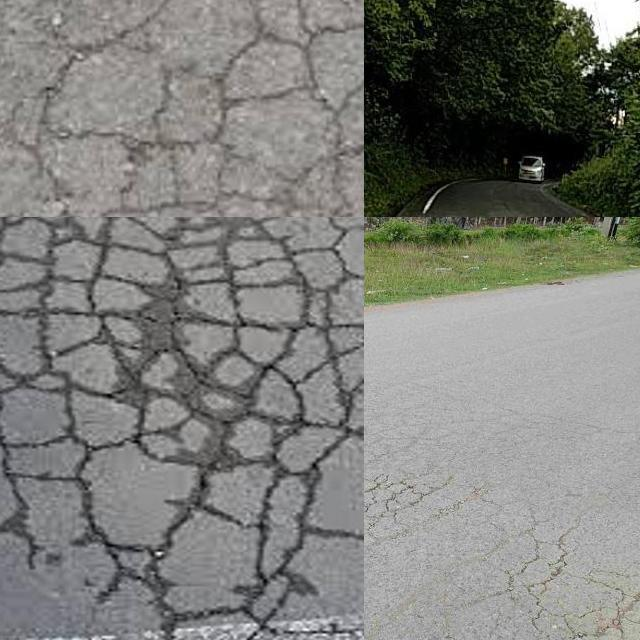Retak Buaya: (0, 217, 359, 640), (0, 0, 364, 217), (364, 475, 427, 539)
